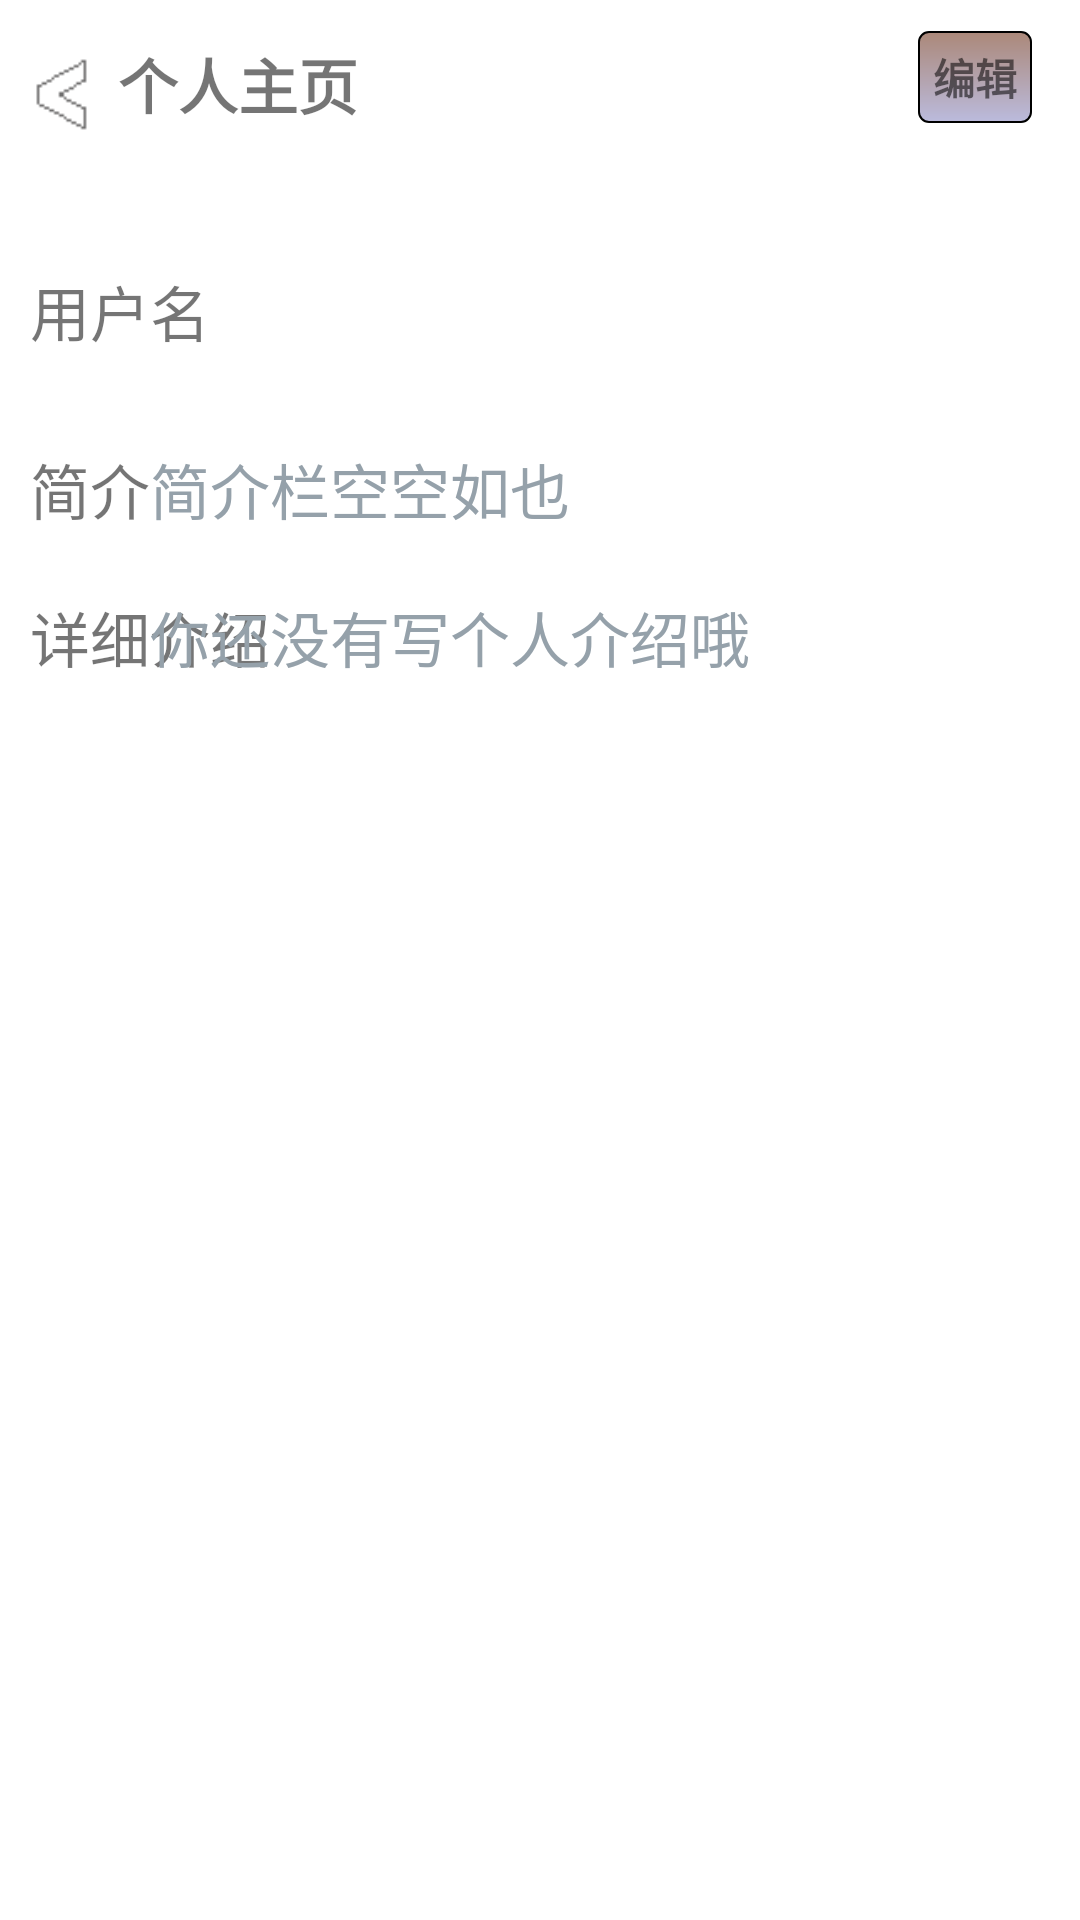

Named icons in this screenshot (1080w x 1920h) and their centers, (x=x, y=y):
back: (x=61, y=94)
